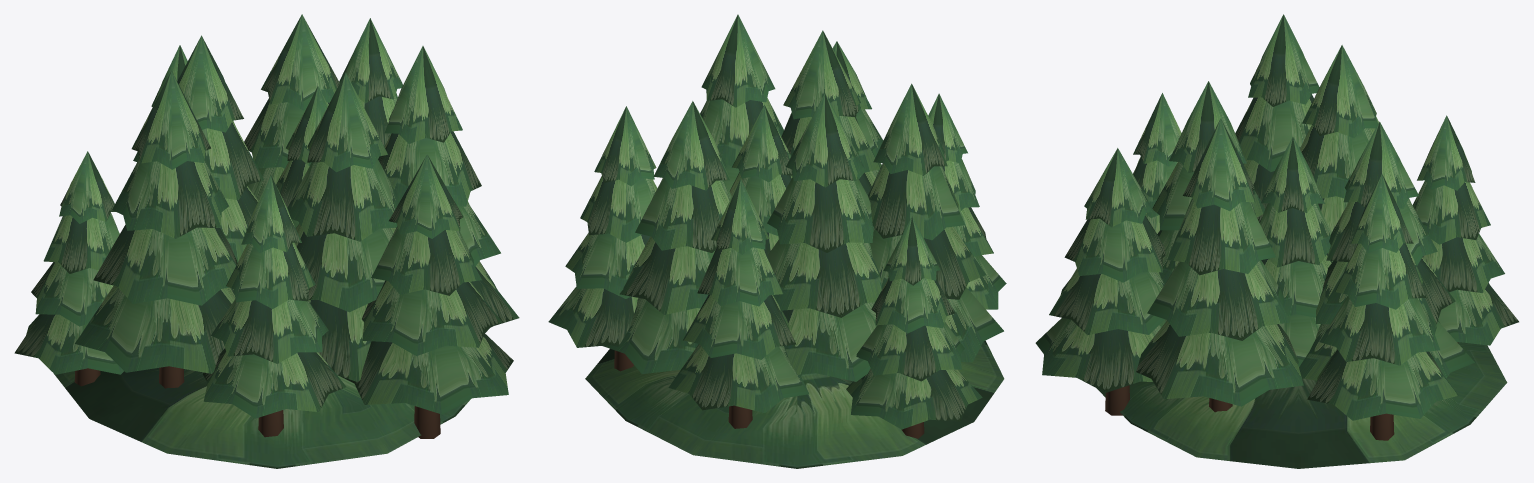
The model's file is forest-mass-a.glb.
3 renders of one model, left to right at view 1: azimuth 30°, elevation 25°; view 2: azimuth 150°, elevation 25°; view 3: azimuth 270°, elevation 25°, orthographic. The views are drawn at different scales.
Visible parts, largest first — view 1: Needles, Trunk; view 2: Needles, Trunk; view 3: Needles, Trunk.
Boxes of the visible parts, x1,y1,x2,y2 form: Needles: (14, 14, 519, 468); Trunk: (74, 366, 440, 438); Needles: (548, 14, 1006, 468); Trunk: (614, 350, 924, 438); Needles: (1035, 14, 1518, 468); Trunk: (1105, 342, 1458, 440).
Size of the model in its own units: 11.61 by 8.93 by 12.24.
Materials: 2 (1 with a texture image).
